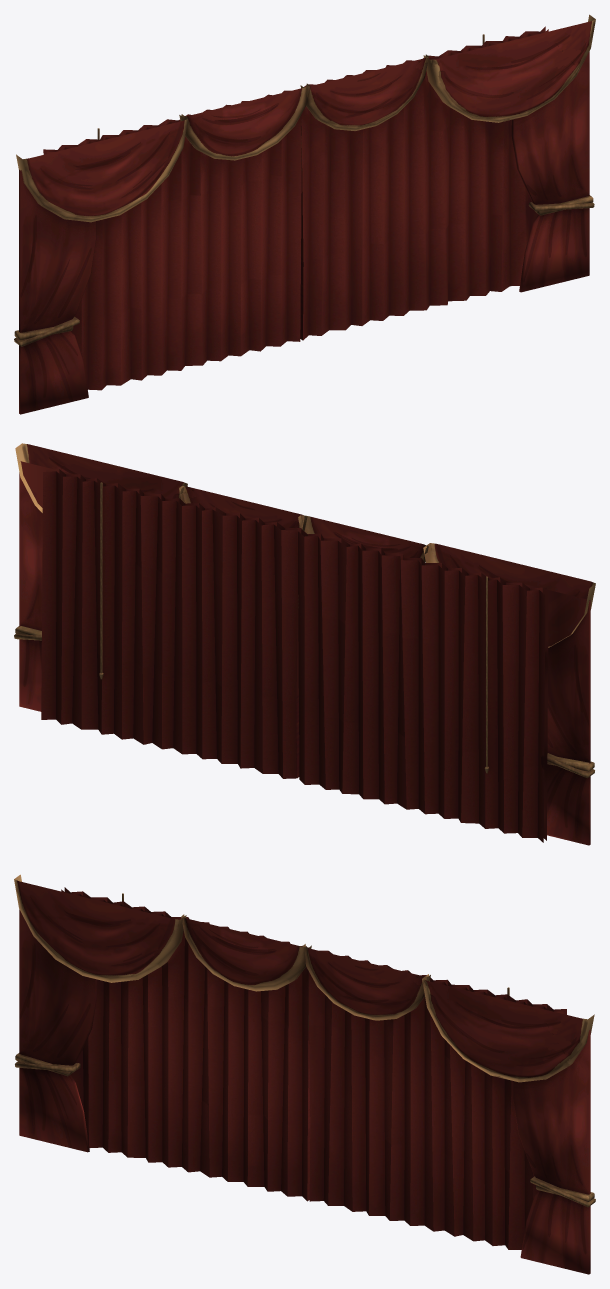
File: EndLevelCurtains.obj
The picture shows the model from 3 angles, top to bottom: view 1: azimuth 30°, elevation 25°; view 2: azimuth 150°, elevation 25°; view 3: azimuth 330°, elevation 25°; orthographic projection.
Visible parts, largest first — view 1: Model_EndLevelCurtains; view 2: Model_EndLevelCurtains; view 3: Model_EndLevelCurtains.
Part boxes in pixels (box(x1,y1,x2,y2)): Model_EndLevelCurtains: box(14, 14, 595, 414); Model_EndLevelCurtains: box(14, 443, 595, 845); Model_EndLevelCurtains: box(14, 874, 595, 1274).
Bounding box in the file's own units: 16.73 × 7.2 × 0.9086.
Materials: 1 (1 with a texture image).
